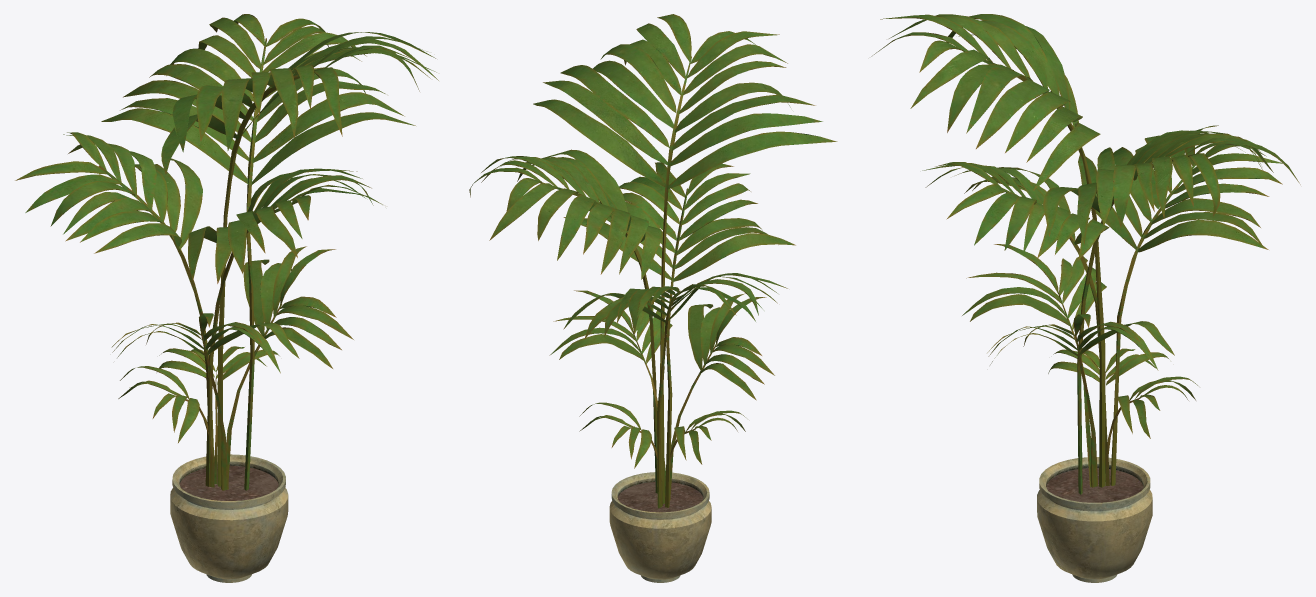
The model's file is plant-potted-large.glb.
3 renders of one model, left to right at view 1: azimuth 30°, elevation 25°; view 2: azimuth 150°, elevation 25°; view 3: azimuth 270°, elevation 25°, orthographic. The views are drawn at different scales.
Visible parts, largest first — view 1: plant-potted-large; view 2: plant-potted-large; view 3: plant-potted-large.
Part boxes in pixels (left/top/right/bottom): plant-potted-large: left=15, top=14, right=438, bottom=582; plant-potted-large: left=469, top=14, right=837, bottom=582; plant-potted-large: left=871, top=14, right=1300, bottom=582.
Size of the model in its own units: 0.6342 by 1.02 by 0.7221.
Materials: 1 (1 with a texture image).
